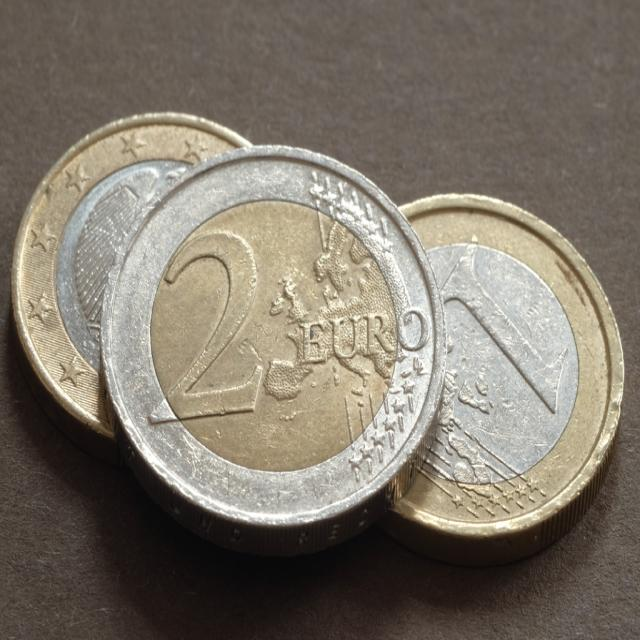Coin: (104, 146, 446, 551), (387, 191, 626, 531), (11, 109, 250, 439)
